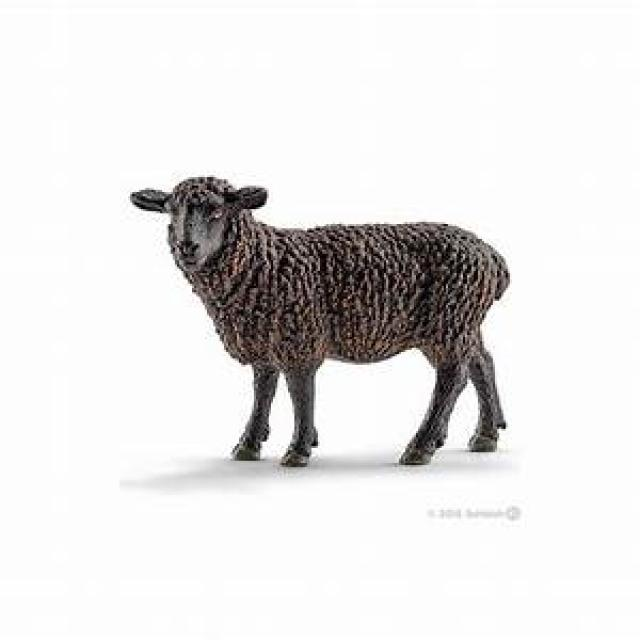sheep: (128, 173, 510, 467)
